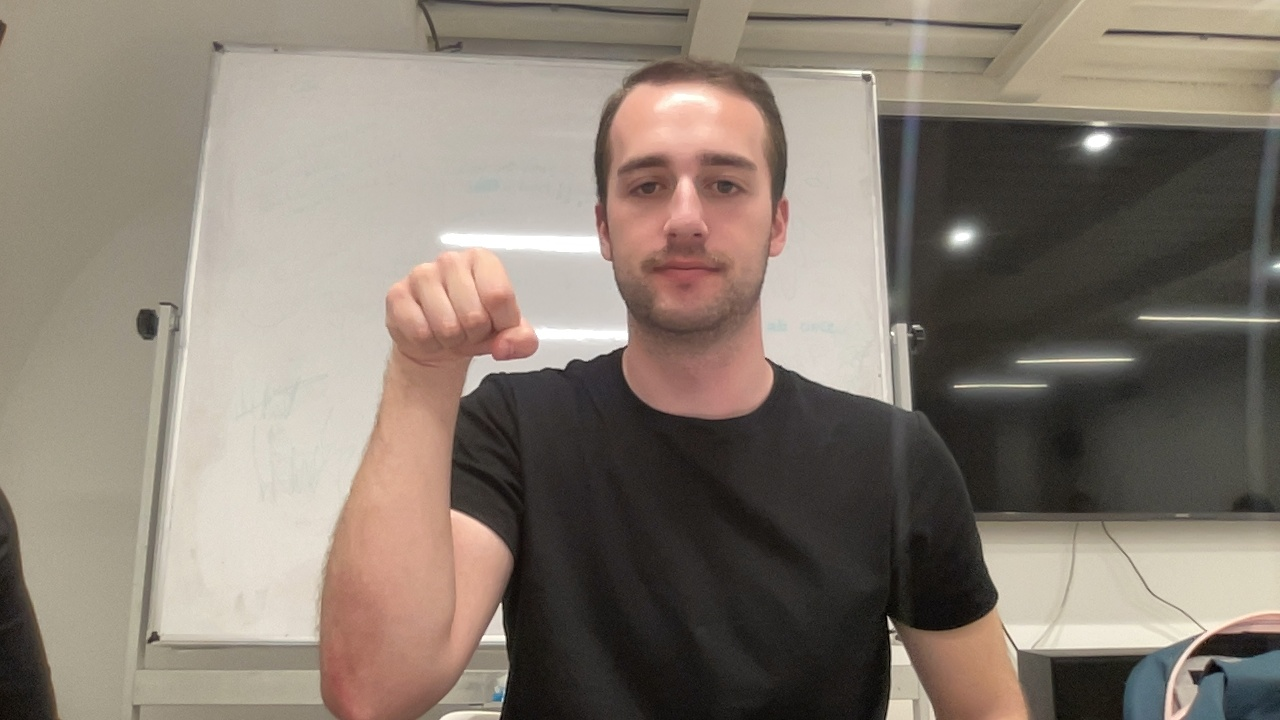Yes: (379, 244, 545, 416)
